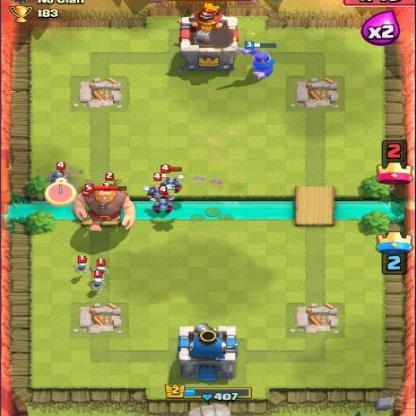ally_knight: (226, 40, 282, 84)
enemy_giant: (71, 182, 138, 232)
enemy_minion: (141, 172, 176, 202), (158, 163, 186, 195), (150, 185, 176, 217)
enemy_musketeer: (46, 161, 75, 195)
enemy_skeleton: (91, 256, 112, 282), (72, 254, 92, 278), (89, 270, 110, 292)
enemy_spear_goblin: (100, 172, 124, 196), (99, 181, 119, 205), (80, 186, 101, 208)
